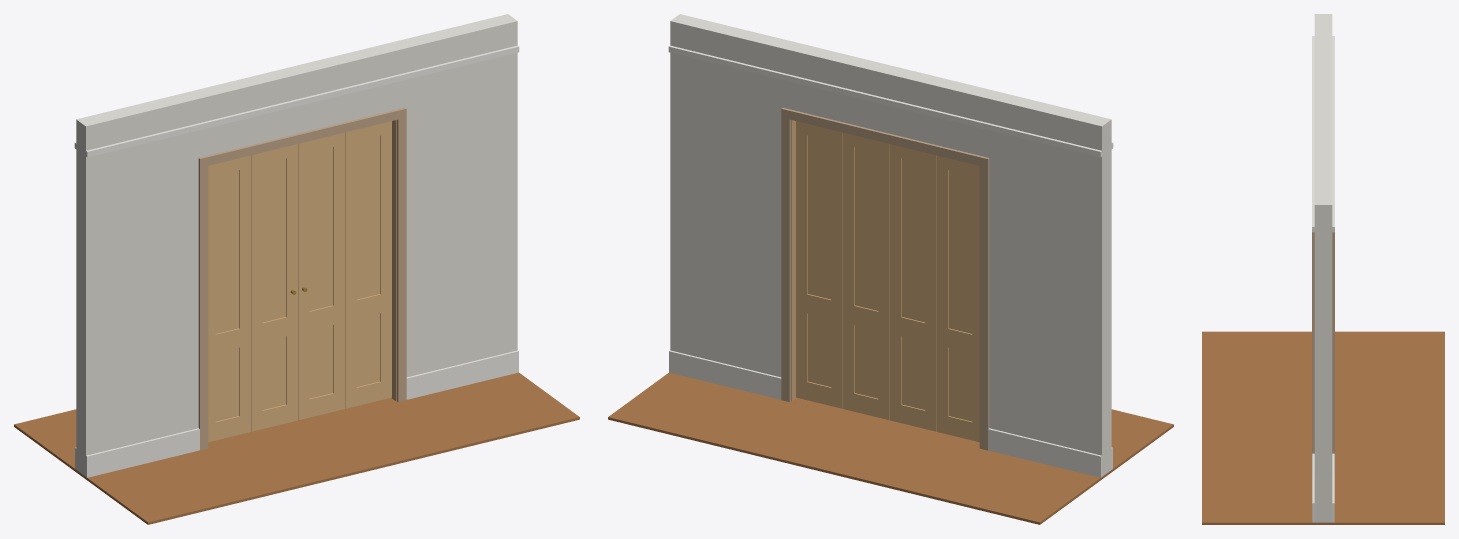
The model's file is a-abi0cf.glb.
3 renders of one model, left to right at view 1: azimuth 30°, elevation 25°; view 2: azimuth 150°, elevation 25°; view 3: azimuth 270°, elevation 25°, orthographic. The views are drawn at different scales.
Visible parts, largest first — view 1: Room: Wall, Room: Floor, Door 4: Frame, Door 3: Frame, Door 2: Frame, Door 1: Frame, Door 4: Panel, top, Door 1: Panel, top, Door 2: Panel, top, Door 3: Panel, top, Room: Picture rail, front, Architrave, front right (+9 smaller); view 2: Room: Wall, Room: Floor, Door 3: Frame, Door 4: Frame, Door 2: Frame, Door 1: Frame, Door 4: Panel, top, Door 1: Panel, top, Door 2: Panel, top, Door 3: Panel, top, Room: Picture rail, back, Architrave, back right (+9 smaller); view 3: Room: Floor, Room: Wall, Architrave, front right, Architrave, back right, Room: Picture rail, front, Room: Picture rail, back.
Part boxes in pixels (<box>): Room: Wall: <box>76,14,517,476</box>; Room: Floor: <box>14,372,579,524</box>; Door 4: Frame: <box>345,121,391,408</box>; Door 3: Frame: <box>298,132,344,420</box>; Door 2: Frame: <box>251,144,297,431</box>; Door 1: Frame: <box>208,155,250,442</box>; Door 4: Panel, top: <box>356,135,379,299</box>; Door 1: Panel, top: <box>215,170,238,333</box>; Door 2: Panel, top: <box>262,158,285,322</box>; Door 3: Panel, top: <box>309,147,332,310</box>; Room: Picture rail, front: <box>86,45,519,157</box>; Architrave, front right: <box>396,117,406,402</box>; Room: Wall: <box>670,14,1111,476</box>; Room: Floor: <box>608,372,1173,524</box>; Door 3: Frame: <box>843,132,889,420</box>; Door 4: Frame: <box>796,121,842,408</box>; Door 2: Frame: <box>890,144,936,431</box>; Door 1: Frame: <box>937,155,979,442</box>; Door 4: Panel, top: <box>808,135,831,299</box>; Door 1: Panel, top: <box>949,170,972,333</box>; Door 2: Panel, top: <box>902,158,925,322</box>; Door 3: Panel, top: <box>855,147,878,310</box>; Room: Picture rail, back: <box>668,45,1101,157</box>; Architrave, back right: <box>781,117,791,402</box>; Room: Floor: <box>1202,331,1444,524</box>; Room: Wall: <box>1314,14,1332,522</box>; Architrave, front right: <box>1312,232,1314,472</box>; Architrave, back right: <box>1332,232,1334,472</box>; Room: Picture rail, front: <box>1312,36,1314,232</box>; Room: Picture rail, back: <box>1332,36,1334,232</box>.
Bounding box in the file's own units: 3.61 × 2.82 × 1.94.
